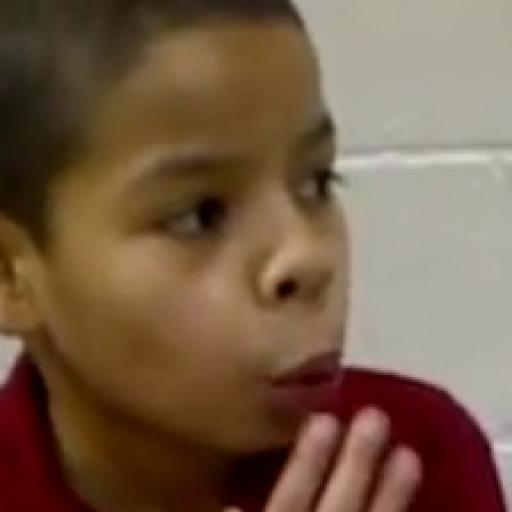Autism: (15, 20, 401, 474)
